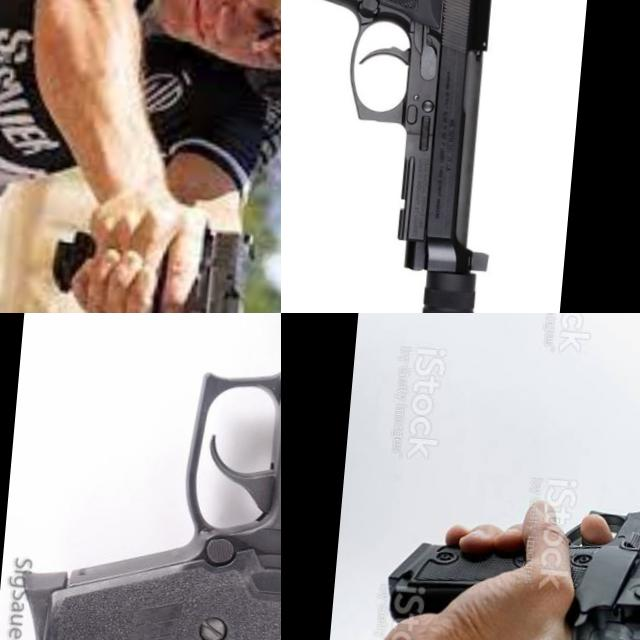handgun: (9, 313, 281, 640), (281, 0, 514, 287), (374, 423, 640, 640), (27, 200, 264, 313)
